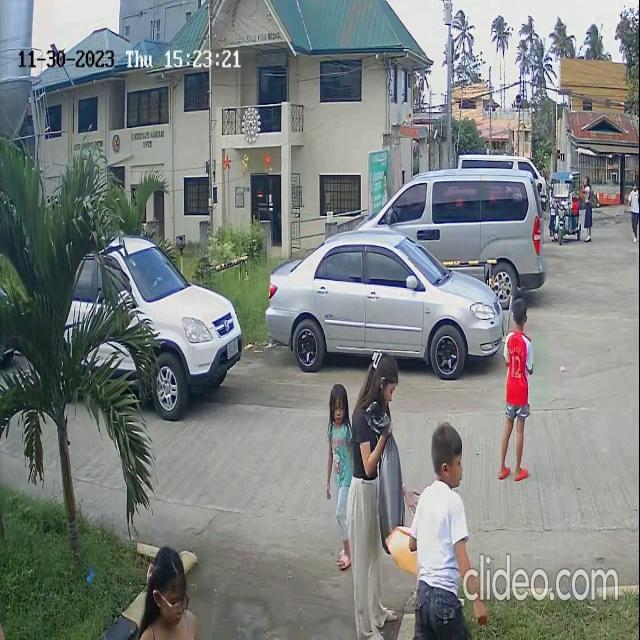person: (426, 422, 464, 599), (321, 376, 352, 508), (359, 352, 388, 458), (503, 297, 532, 399), (148, 551, 185, 623)
